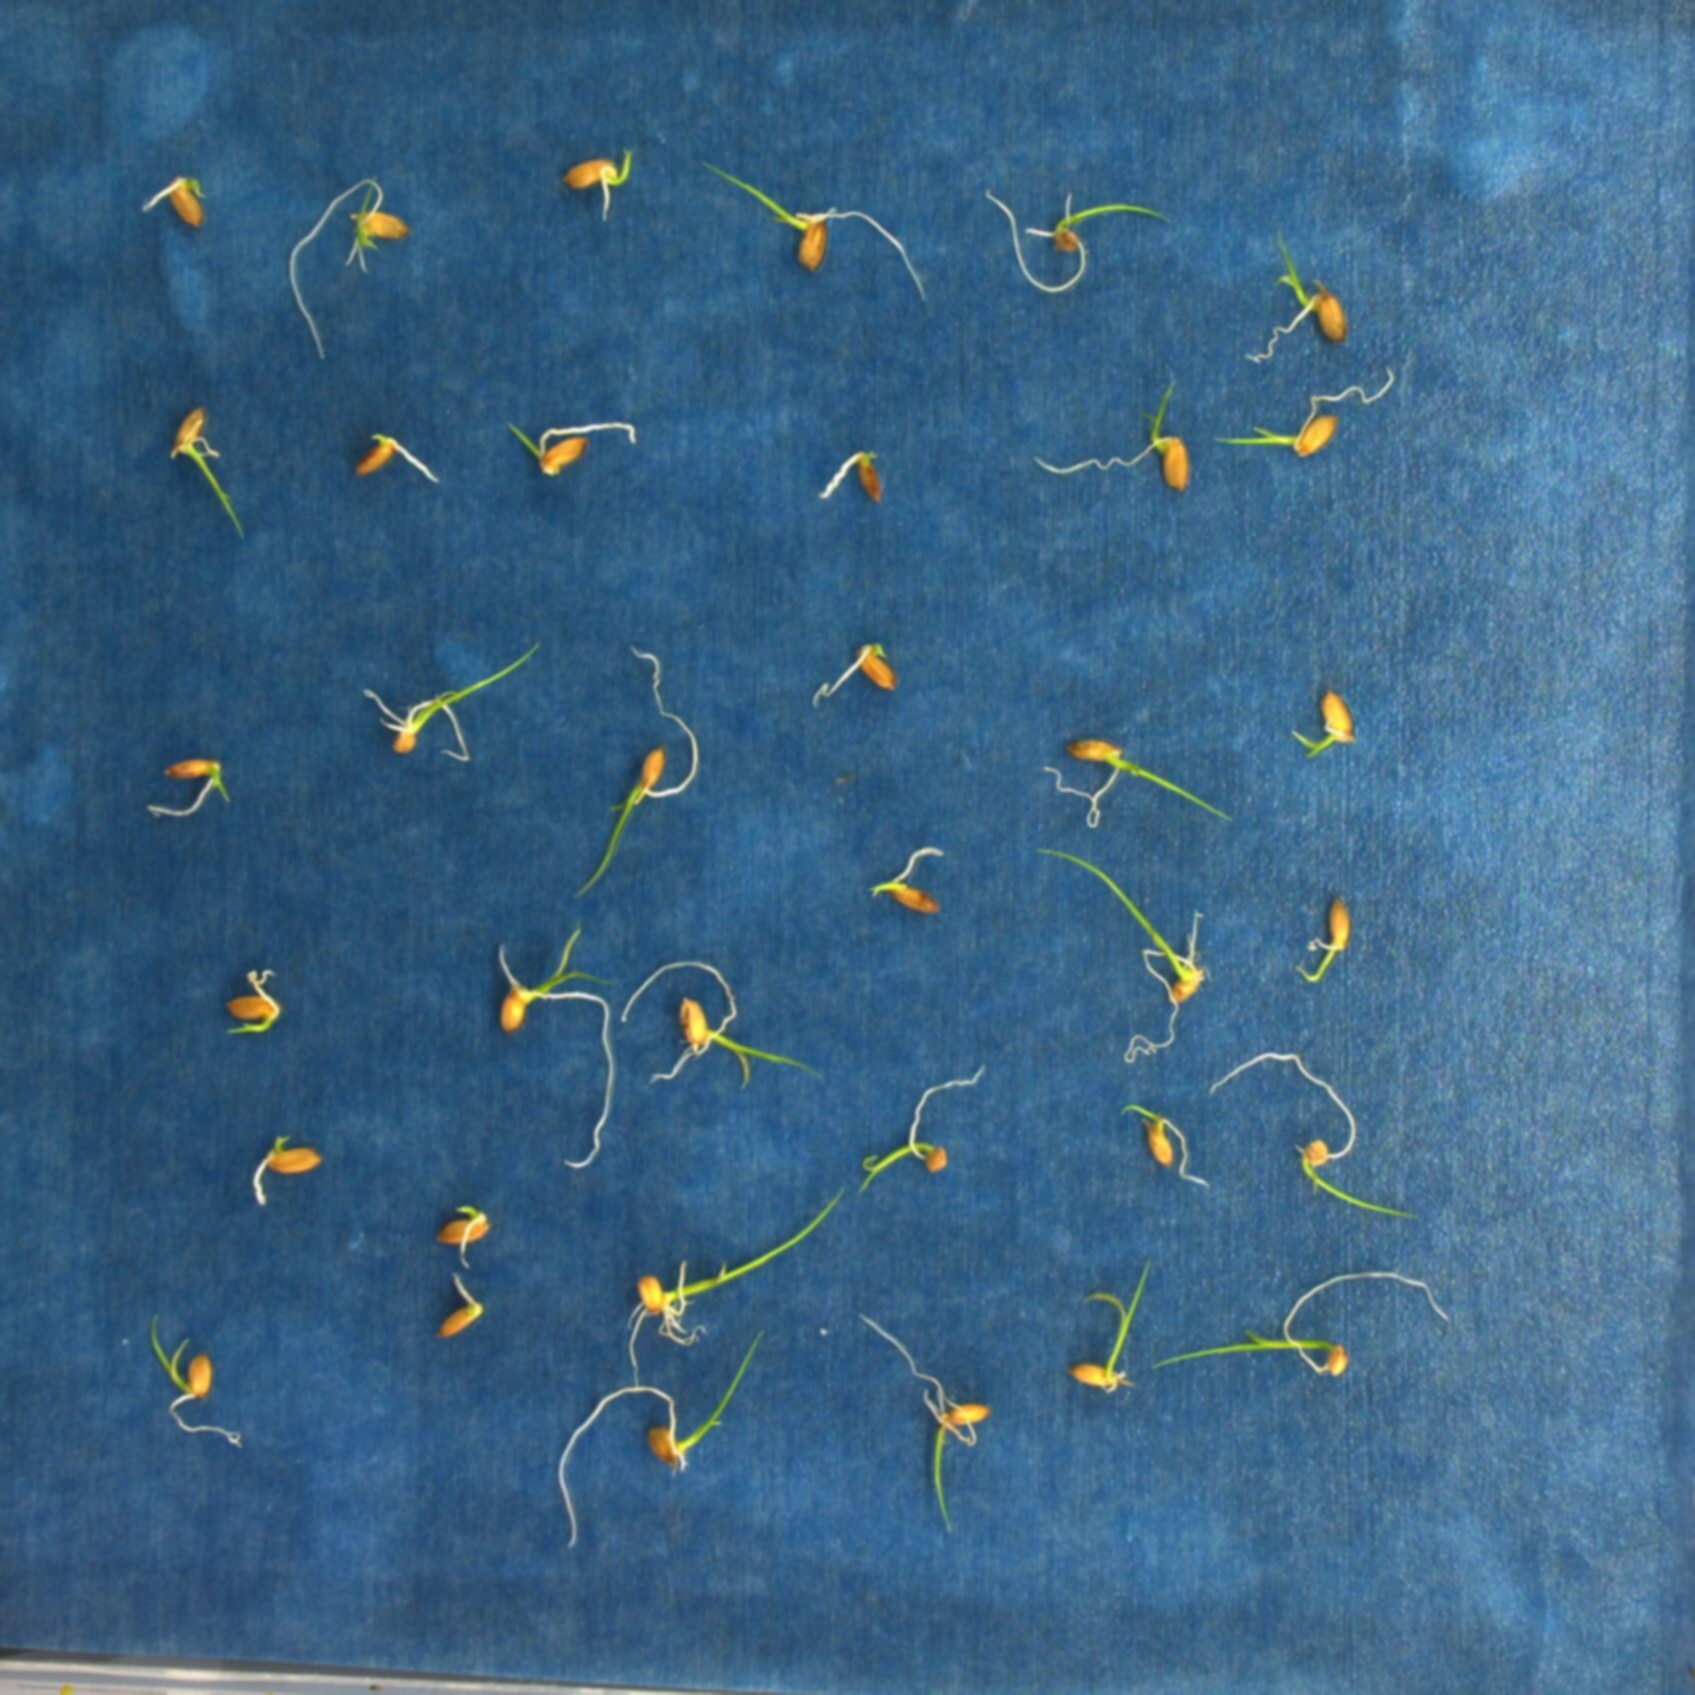not sprout: (337, 413, 447, 498), (810, 632, 922, 706), (865, 843, 959, 925), (799, 450, 896, 512), (245, 1128, 317, 1203), (435, 1271, 495, 1332)
sprout: (542, 1329, 778, 1558), (1028, 830, 1225, 1074), (1161, 1265, 1464, 1417), (618, 1167, 823, 1389), (695, 147, 927, 321), (1212, 1046, 1392, 1229), (477, 941, 616, 1177), (577, 649, 706, 894), (865, 1310, 993, 1544), (1215, 348, 1464, 461), (602, 958, 818, 1087), (281, 171, 413, 365), (983, 163, 1178, 293), (369, 608, 518, 771), (1021, 720, 1225, 832), (855, 1063, 1003, 1212), (1031, 376, 1198, 500), (1228, 231, 1358, 379), (1068, 1251, 1153, 1419), (147, 397, 244, 542), (141, 1324, 241, 1454), (498, 411, 643, 480), (1114, 1093, 1208, 1198), (1288, 893, 1366, 989), (553, 155, 647, 233), (138, 744, 233, 820), (217, 965, 296, 1052), (1284, 681, 1369, 761), (428, 1200, 500, 1263), (141, 168, 210, 231)
